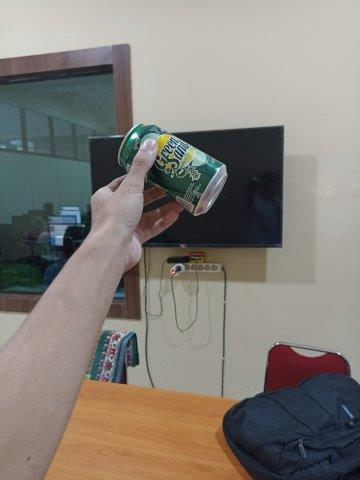kaleng: (118, 123, 228, 217)
